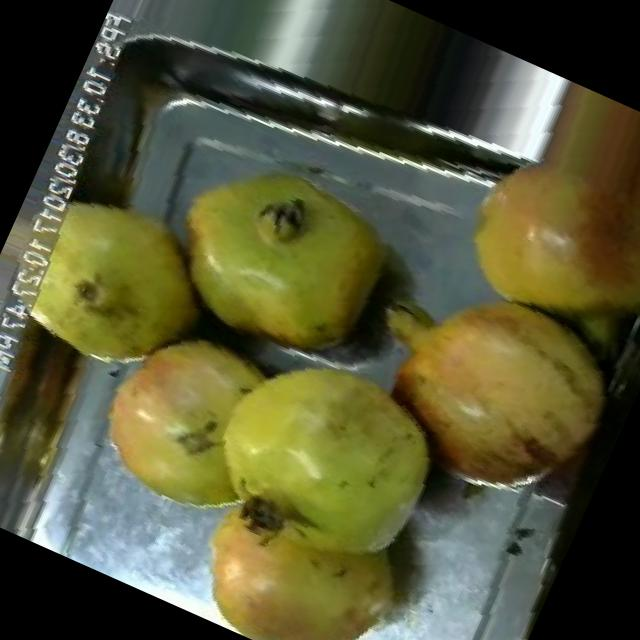fruit: (311, 229, 640, 554), (158, 300, 492, 620), (118, 109, 445, 411), (411, 65, 640, 382), (0, 154, 248, 407), (62, 293, 292, 537), (158, 463, 428, 640)
